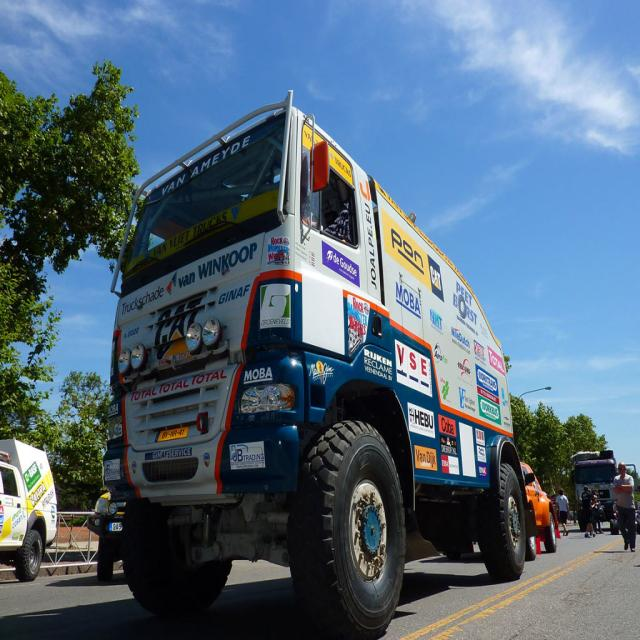Heavy Duty Truck: (103, 105, 529, 634)
Passenger Car: (528, 458, 561, 560)
Pedestrians: (610, 462, 638, 554)
Pickup Trucks: (1, 438, 57, 582)
